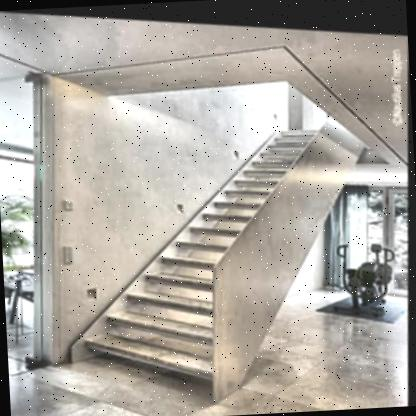stair: (83, 115, 342, 387)
